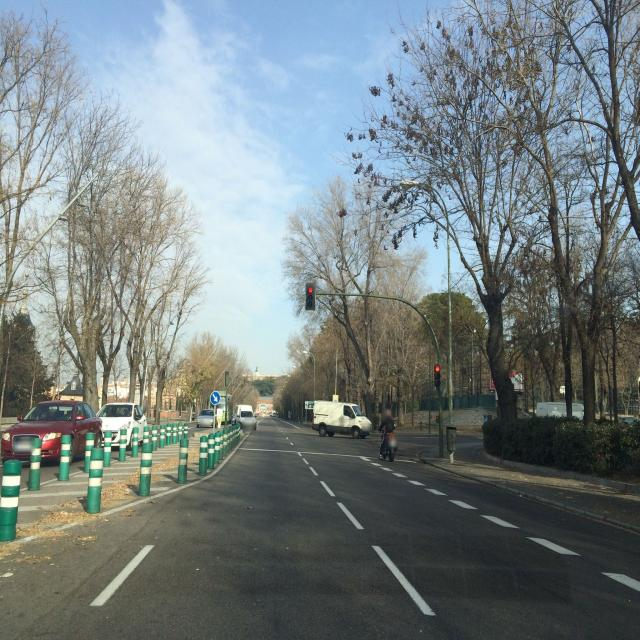car: (0, 399, 104, 467), (97, 402, 149, 442), (235, 408, 258, 432), (196, 408, 219, 429)
